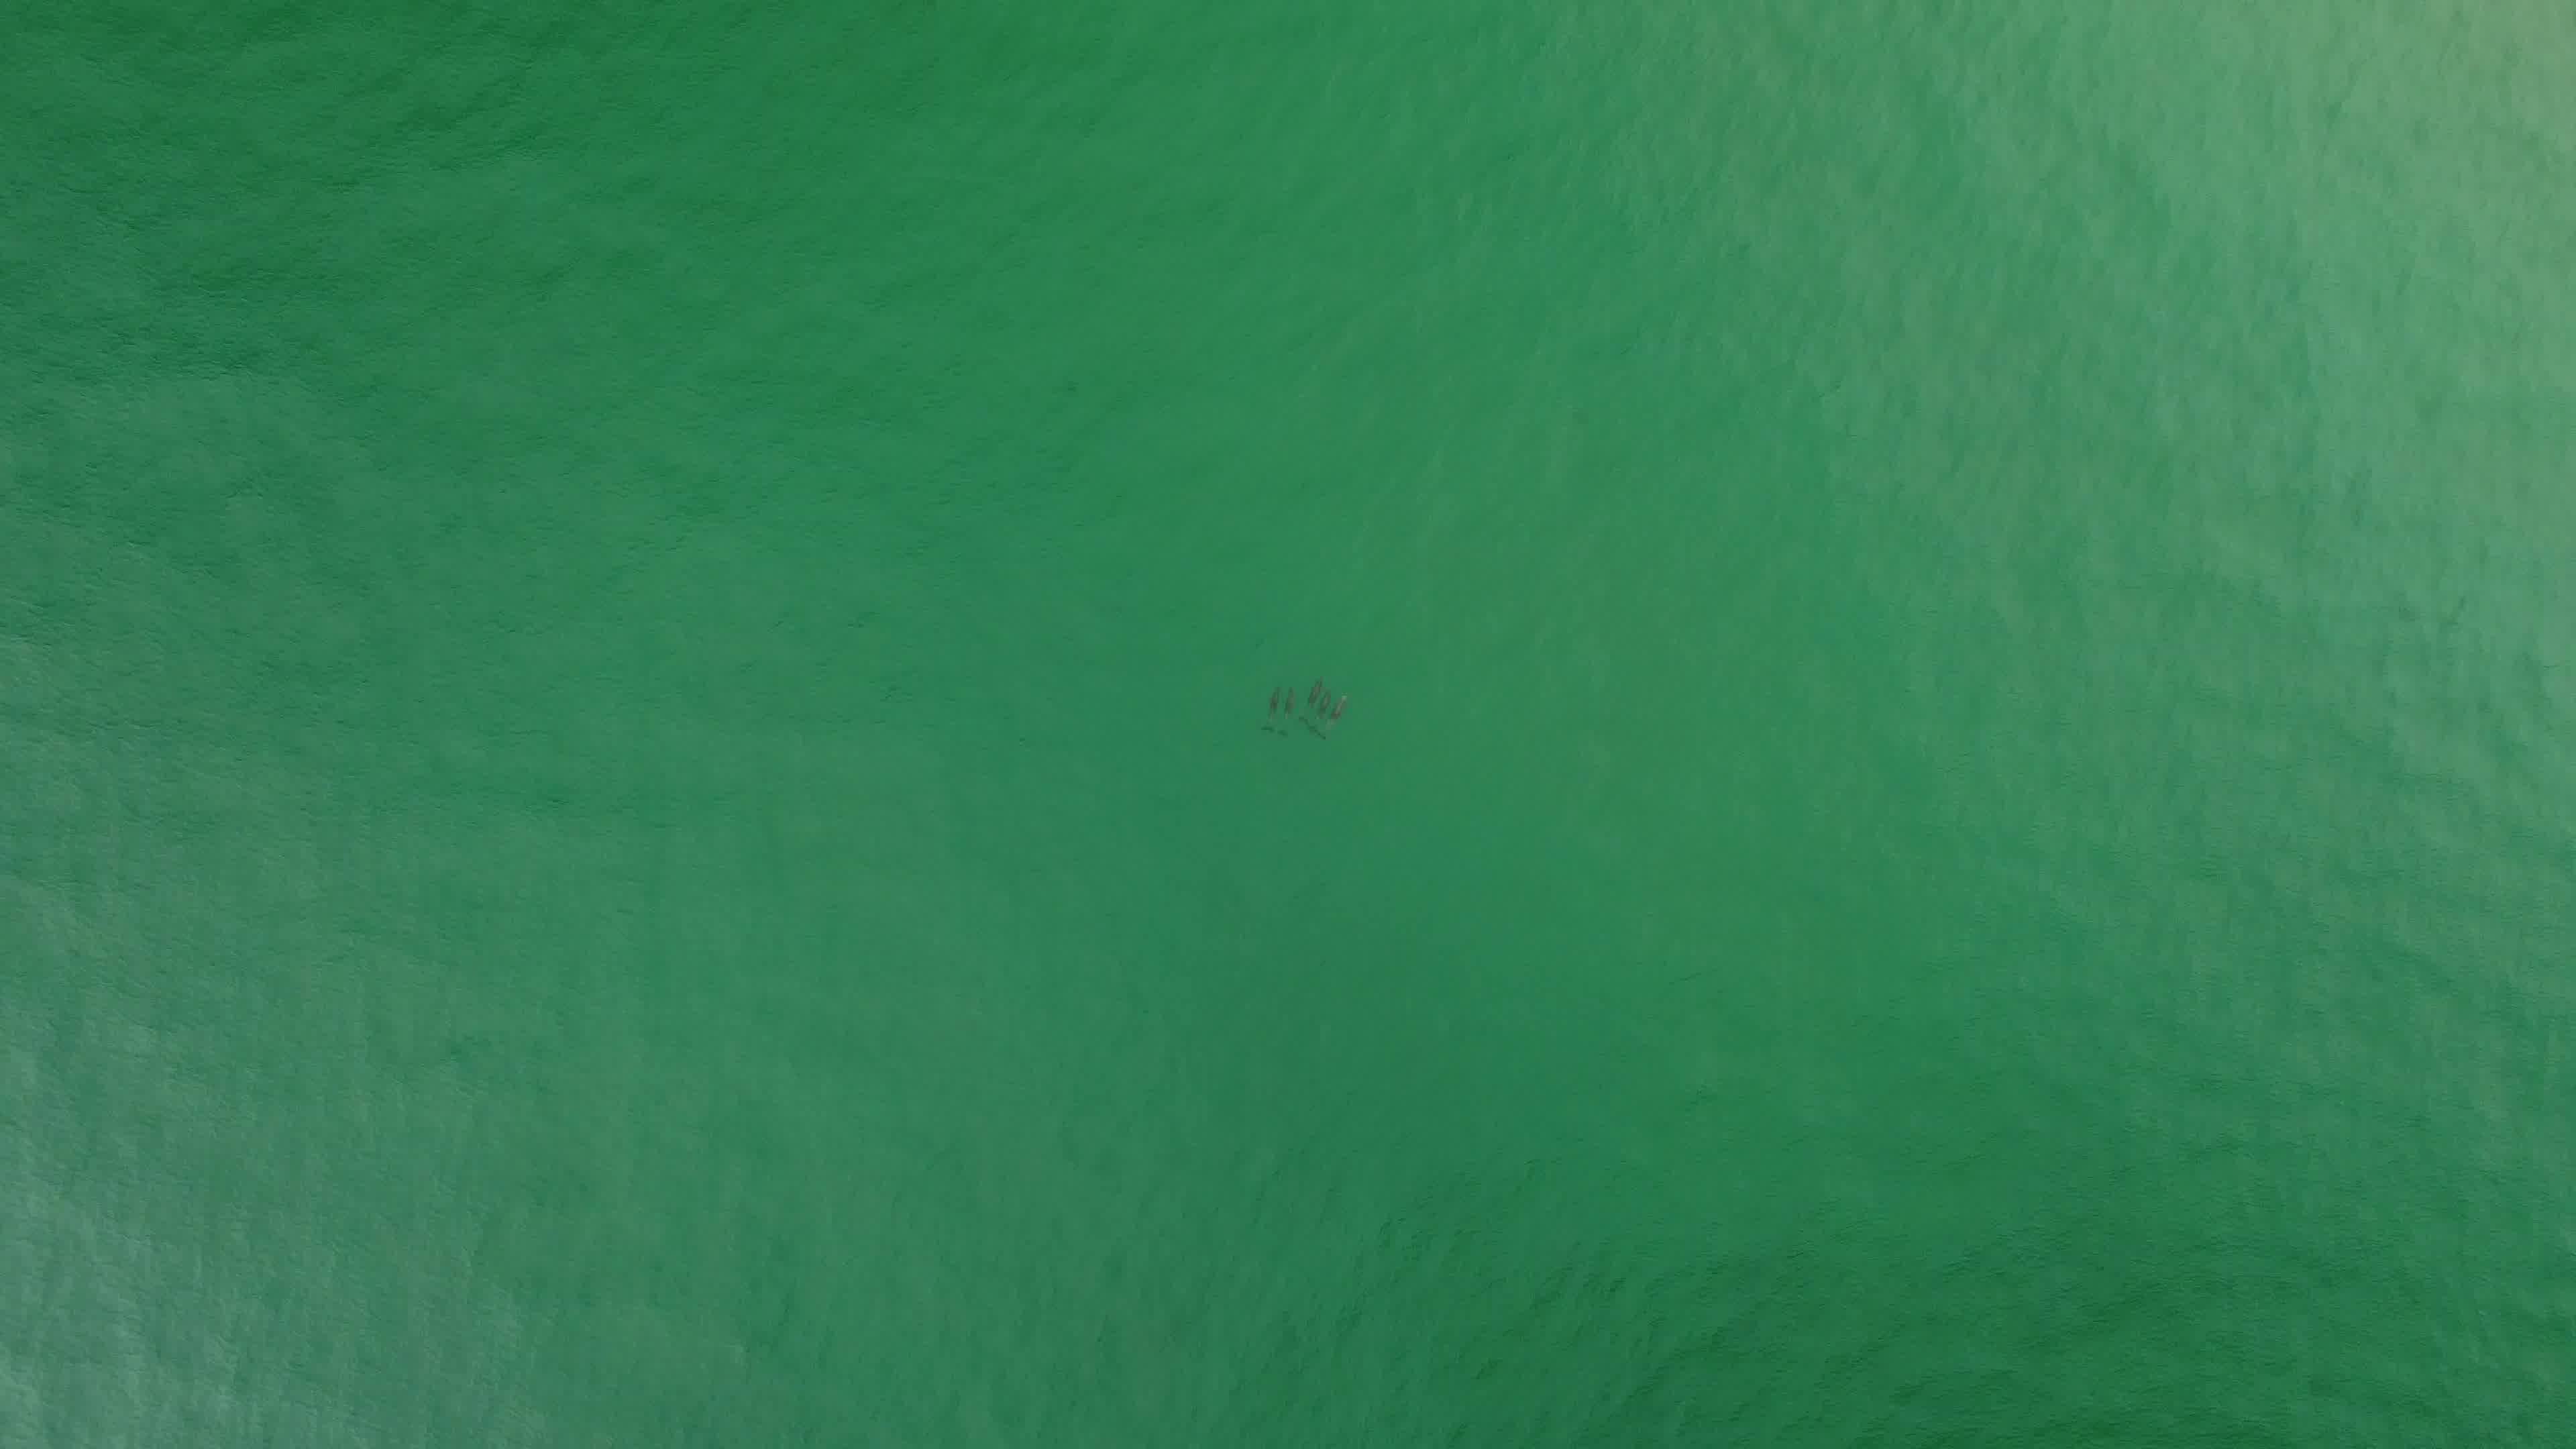dolphin: (1318, 679, 1350, 745), (1295, 663, 1322, 734), (1254, 679, 1286, 738), (1279, 679, 1299, 743), (1313, 678, 1330, 738)
